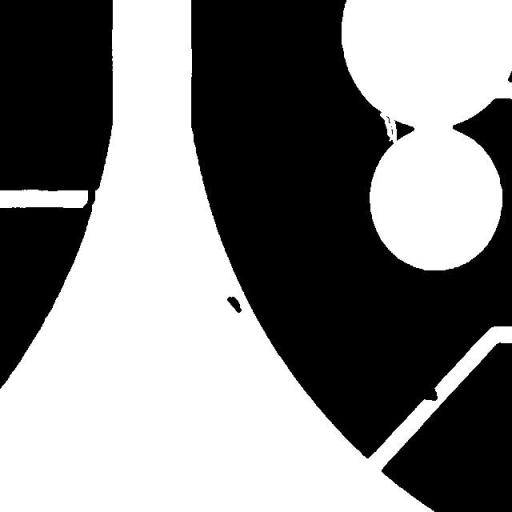copper: (219, 289, 249, 320)
open: (372, 104, 405, 151)
short: (74, 176, 102, 226)
spur: (410, 380, 445, 408)
